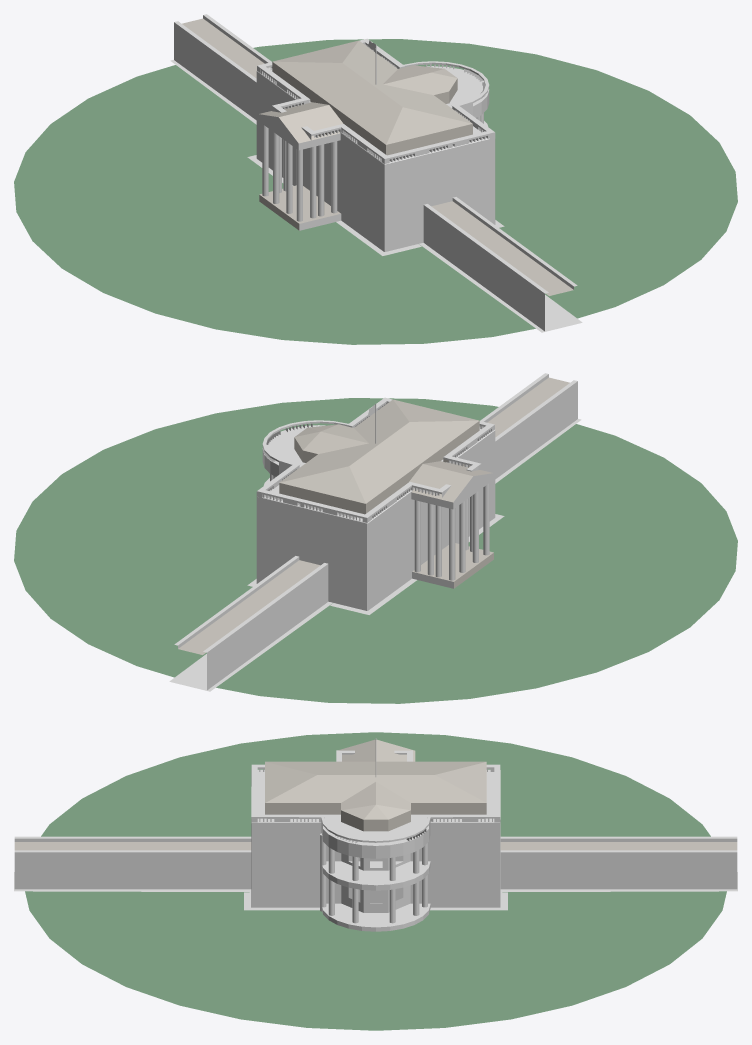
The model's file is whitehouse.glb.
3 renders of one model, top to bottom at view 1: azimuth 30°, elevation 25°; view 2: azimuth 150°, elevation 25°; view 3: azimuth 270°, elevation 25°, orthographic. The views are drawn at different scales.
Visible parts, largest first — view 1: Empty_Mesh; view 2: Empty_Mesh; view 3: Empty_Mesh.
Boxes of the visible parts, x1,y1,x2,y2 form: Empty_Mesh: (14, 14, 737, 344); Empty_Mesh: (14, 373, 737, 703); Empty_Mesh: (14, 732, 737, 1030).
Size of the model in its own units: 437 by 98.39 by 448.
